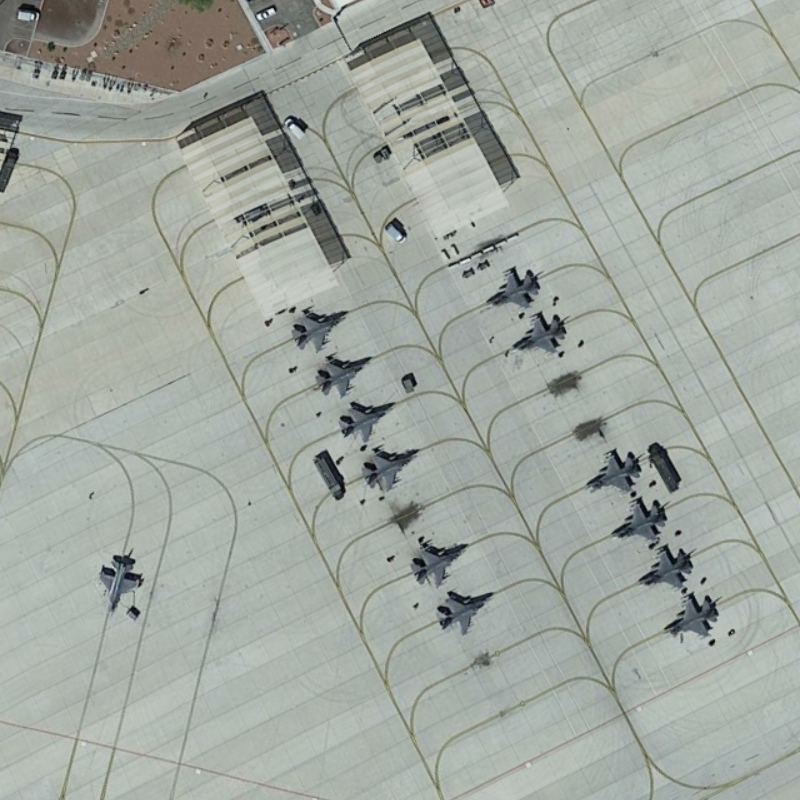A5: (406, 539, 474, 592), (355, 446, 427, 494), (311, 352, 381, 401), (432, 590, 499, 639), (632, 545, 697, 593), (95, 555, 146, 616), (285, 308, 353, 353), (658, 594, 722, 641), (335, 401, 400, 447), (606, 498, 669, 544), (504, 312, 569, 356), (581, 452, 644, 494), (487, 267, 546, 309)
